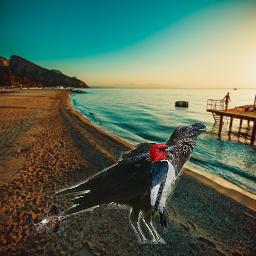Crow: (52, 122, 209, 244)
Swallow: (35, 204, 67, 233)
Woodpecker: (147, 144, 185, 235)
